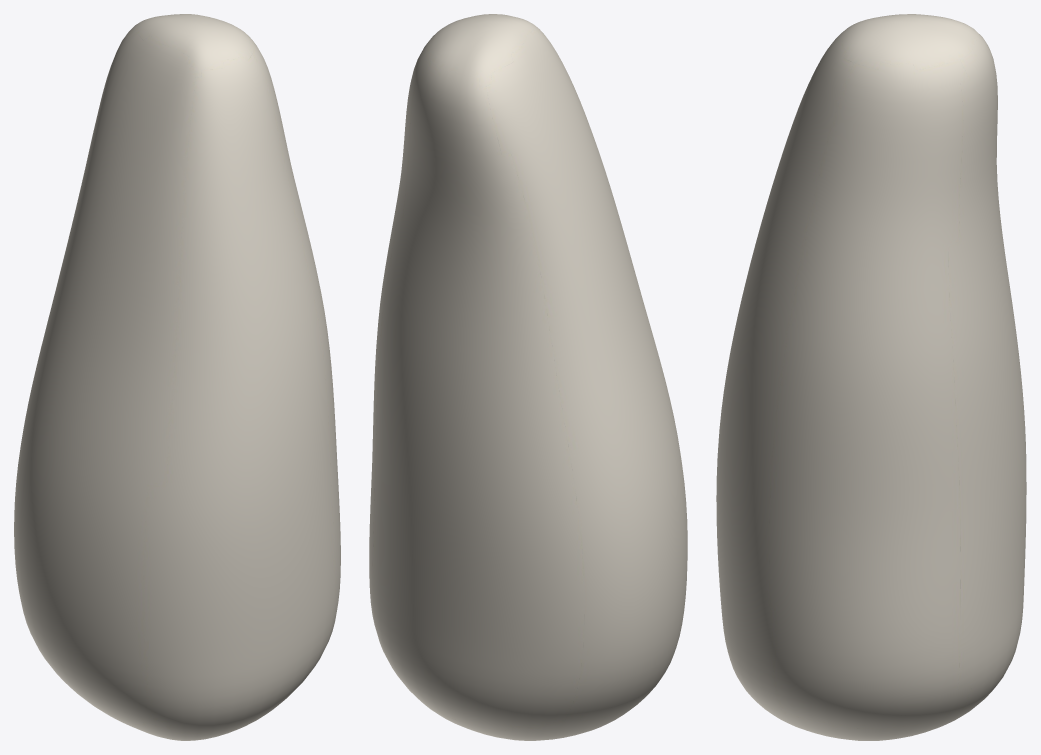
File: leftUpperLeg.dae
3 views of the same model, side by side, from view 1: azimuth 30°, elevation 25°; view 2: azimuth 150°, elevation 25°; view 3: azimuth 270°, elevation 25° (orthographic). The views are drawn at different scales.
Parts seen in each view (by area): view 1: upper; view 2: upper; view 3: upper.
Boxes of the visible parts, x1,y1,x2,y2 form: upper: (14,14,340,740); upper: (369,14,687,740); upper: (716,14,1026,740).
Size of the model in its own units: 84.72 by 197 by 76.92.
Materials: 1 (1 with a texture image).
